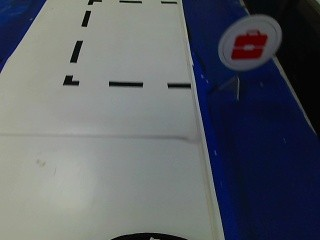company: (216, 18, 280, 67)
